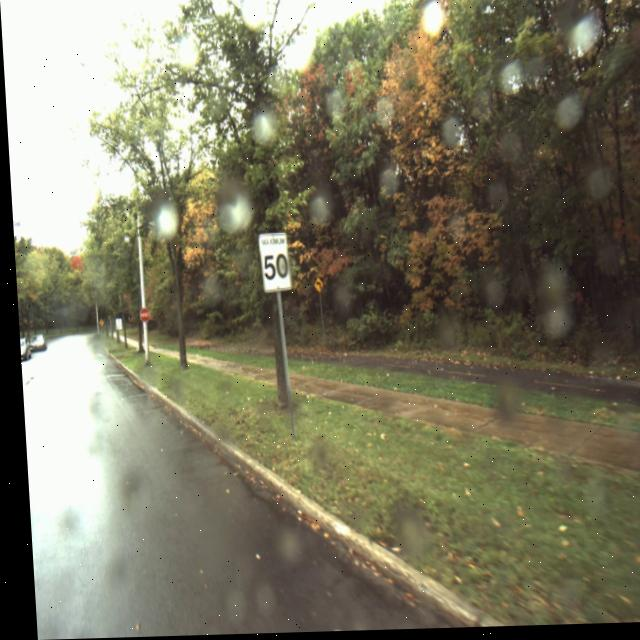car: (16, 335, 43, 361)
